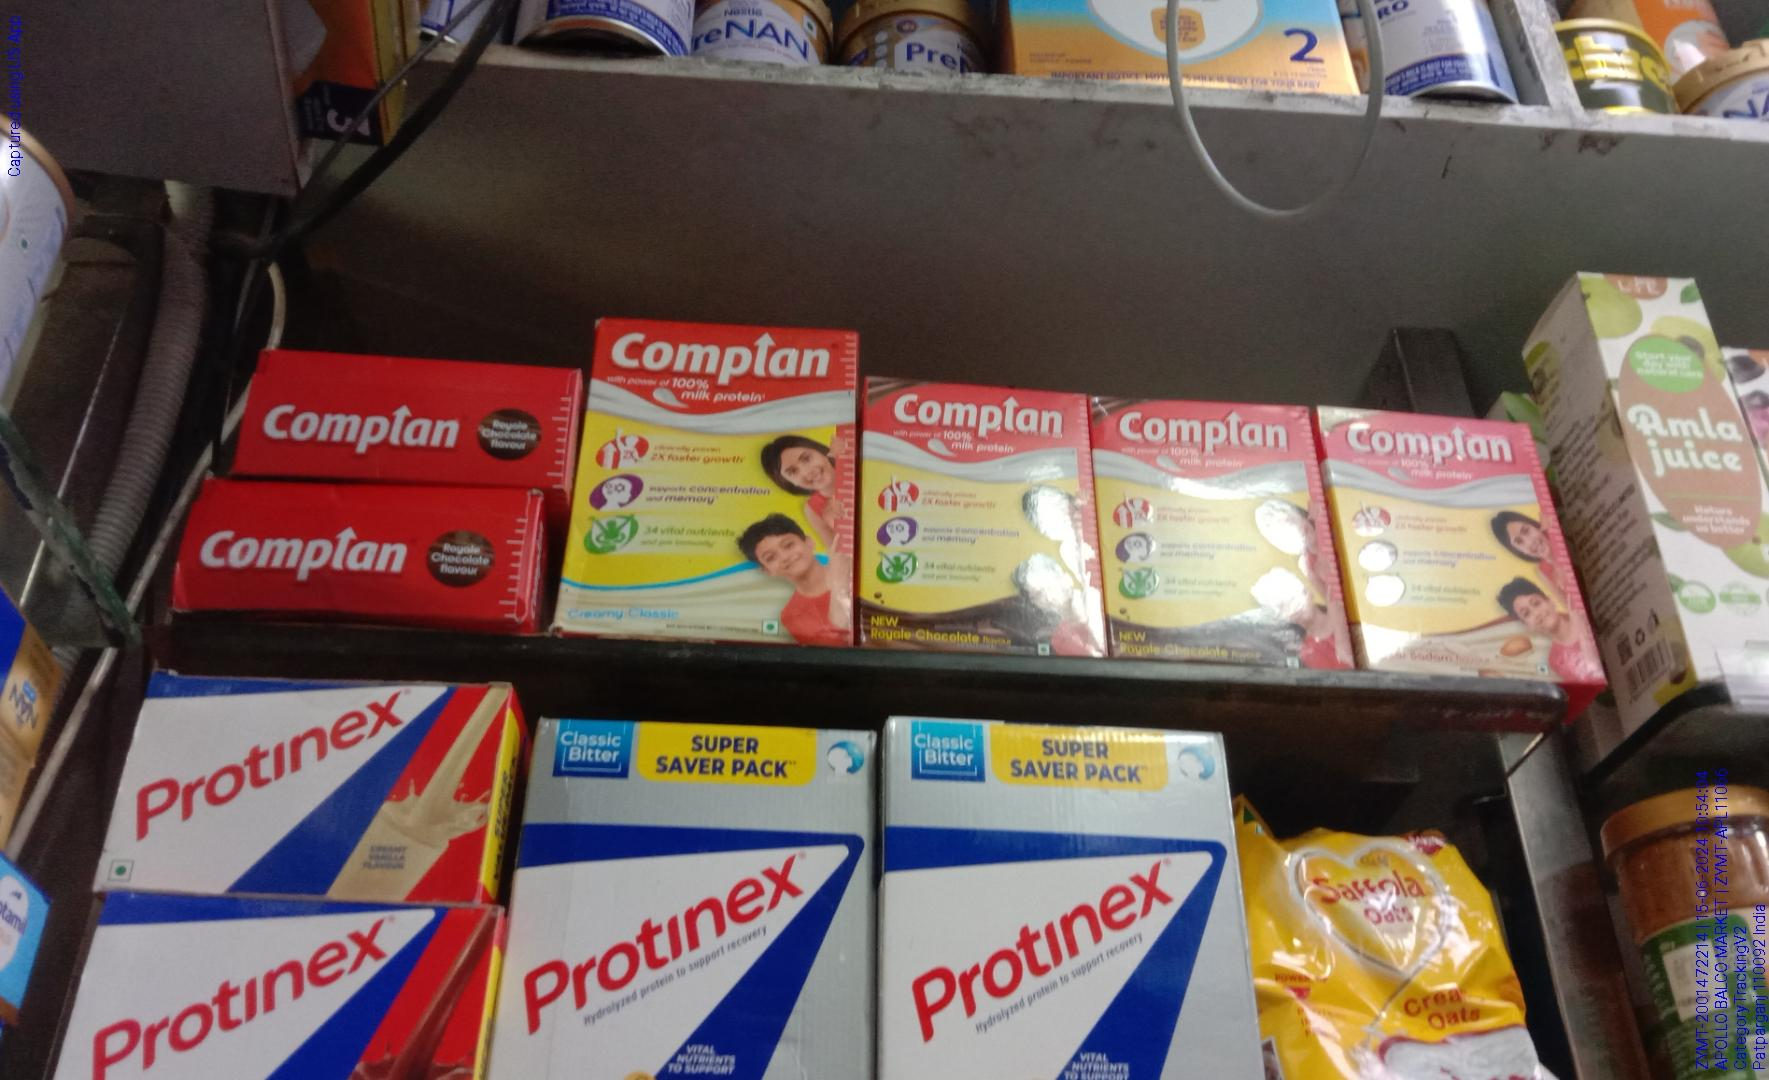COMPLAN_CHOCOLATE_200_GMS_PACK: (859, 374, 1088, 654)
COMPLAN_CHOCOLATE_500_GMS_PACK: (1102, 403, 1310, 658)
COMPLAN_CREAMY_CLASSIC_500_G_PACK: (583, 313, 849, 639)
COMPLAN_PISTA_BADAM_500_GMS_PACK: (1358, 418, 1545, 681)
